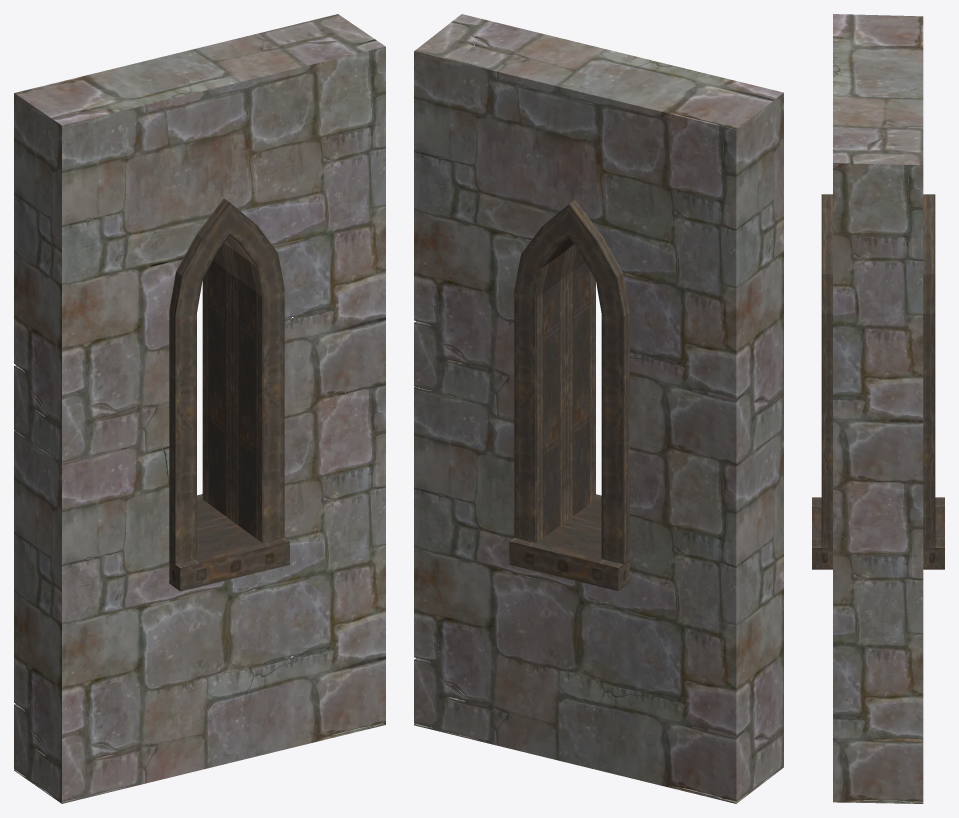
3 renders of one model, left to right at view 1: azimuth 30°, elevation 25°; view 2: azimuth 150°, elevation 25°; view 3: azimuth 270°, elevation 25°, orthographic. The views are drawn at different scales.
Visible parts, largest first — view 1: SM_BB_T3_Extended_Wall_Windowframe_Narrow_03_LOD0; view 2: SM_BB_T3_Extended_Wall_Windowframe_Narrow_03_LOD0; view 3: SM_BB_T3_Extended_Wall_Windowframe_Narrow_03_LOD0.
Part boxes in pixels (x1,y1,x2,y2): SM_BB_T3_Extended_Wall_Windowframe_Narrow_03_LOD0: (14,14,385,803); SM_BB_T3_Extended_Wall_Windowframe_Narrow_03_LOD0: (414,14,783,803); SM_BB_T3_Extended_Wall_Windowframe_Narrow_03_LOD0: (812,14,944,803).
Size of the model in its own units: 1.5 by 3.01 by 0.5651.
Materials: 2 (2 with a texture image).
